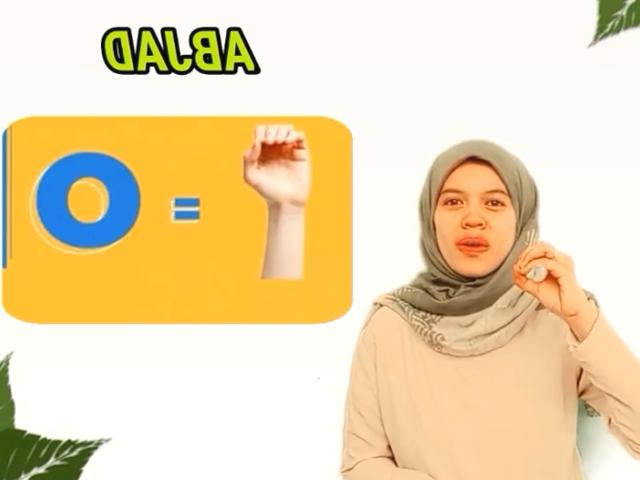O: (511, 239, 581, 320)
